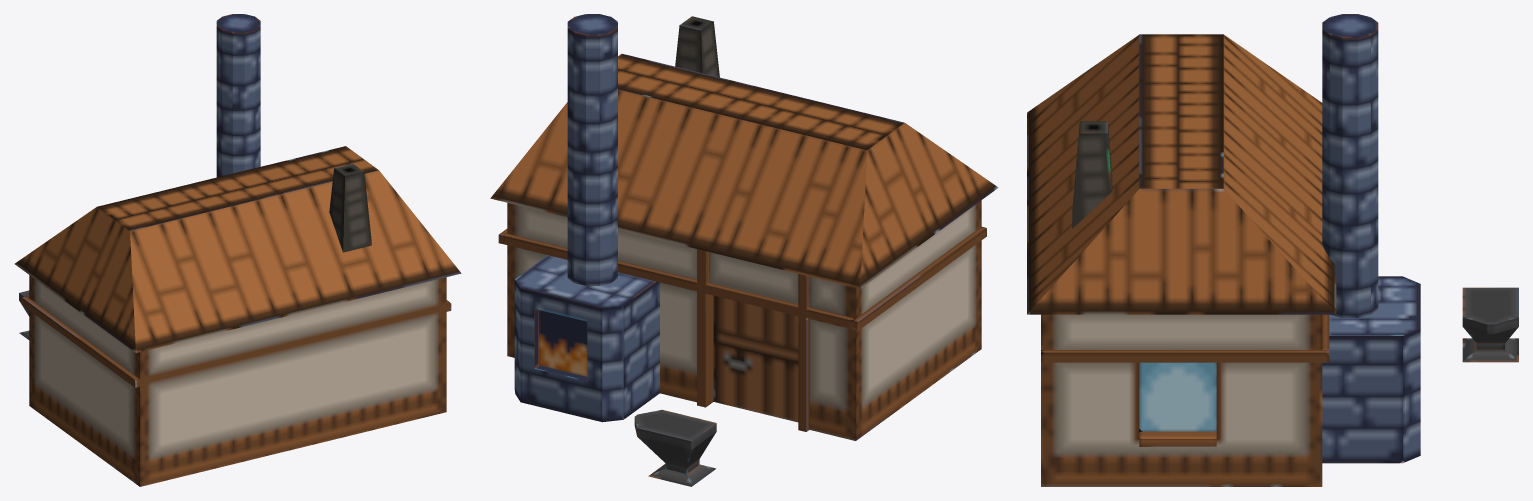
File: house_1_alt_.fbx
3 views of the same model, side by side, from view 1: azimuth 30°, elevation 25°; view 2: azimuth 150°, elevation 25°; view 3: azimuth 270°, elevation 25° (orthographic). The views are drawn at different scales.
Visible parts, largest first — view 1: cylinder; view 2: cylinder, cuboid; view 3: cylinder, cuboid.
Boxes of the visible parts, x1,y1,x2,y2 form: cylinder: (14,14,461,486); cylinder: (490,14,998,440); cuboid: (634,409,716,486); cylinder: (1027,14,1420,486); cuboid: (1462,287,1518,362).
Size of the model in its own units: 212 by 200 by 219.
1 material, 1 textured.
